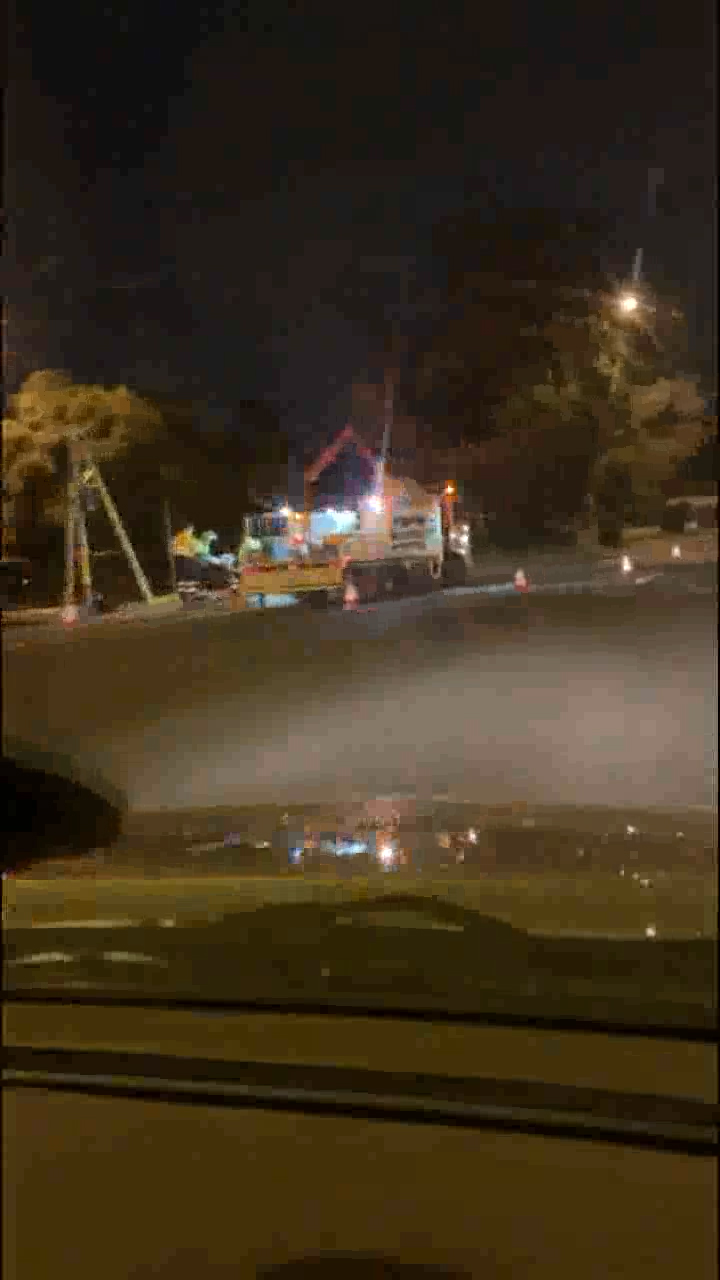person: (179, 515, 222, 613)
truck: (239, 502, 499, 594)
